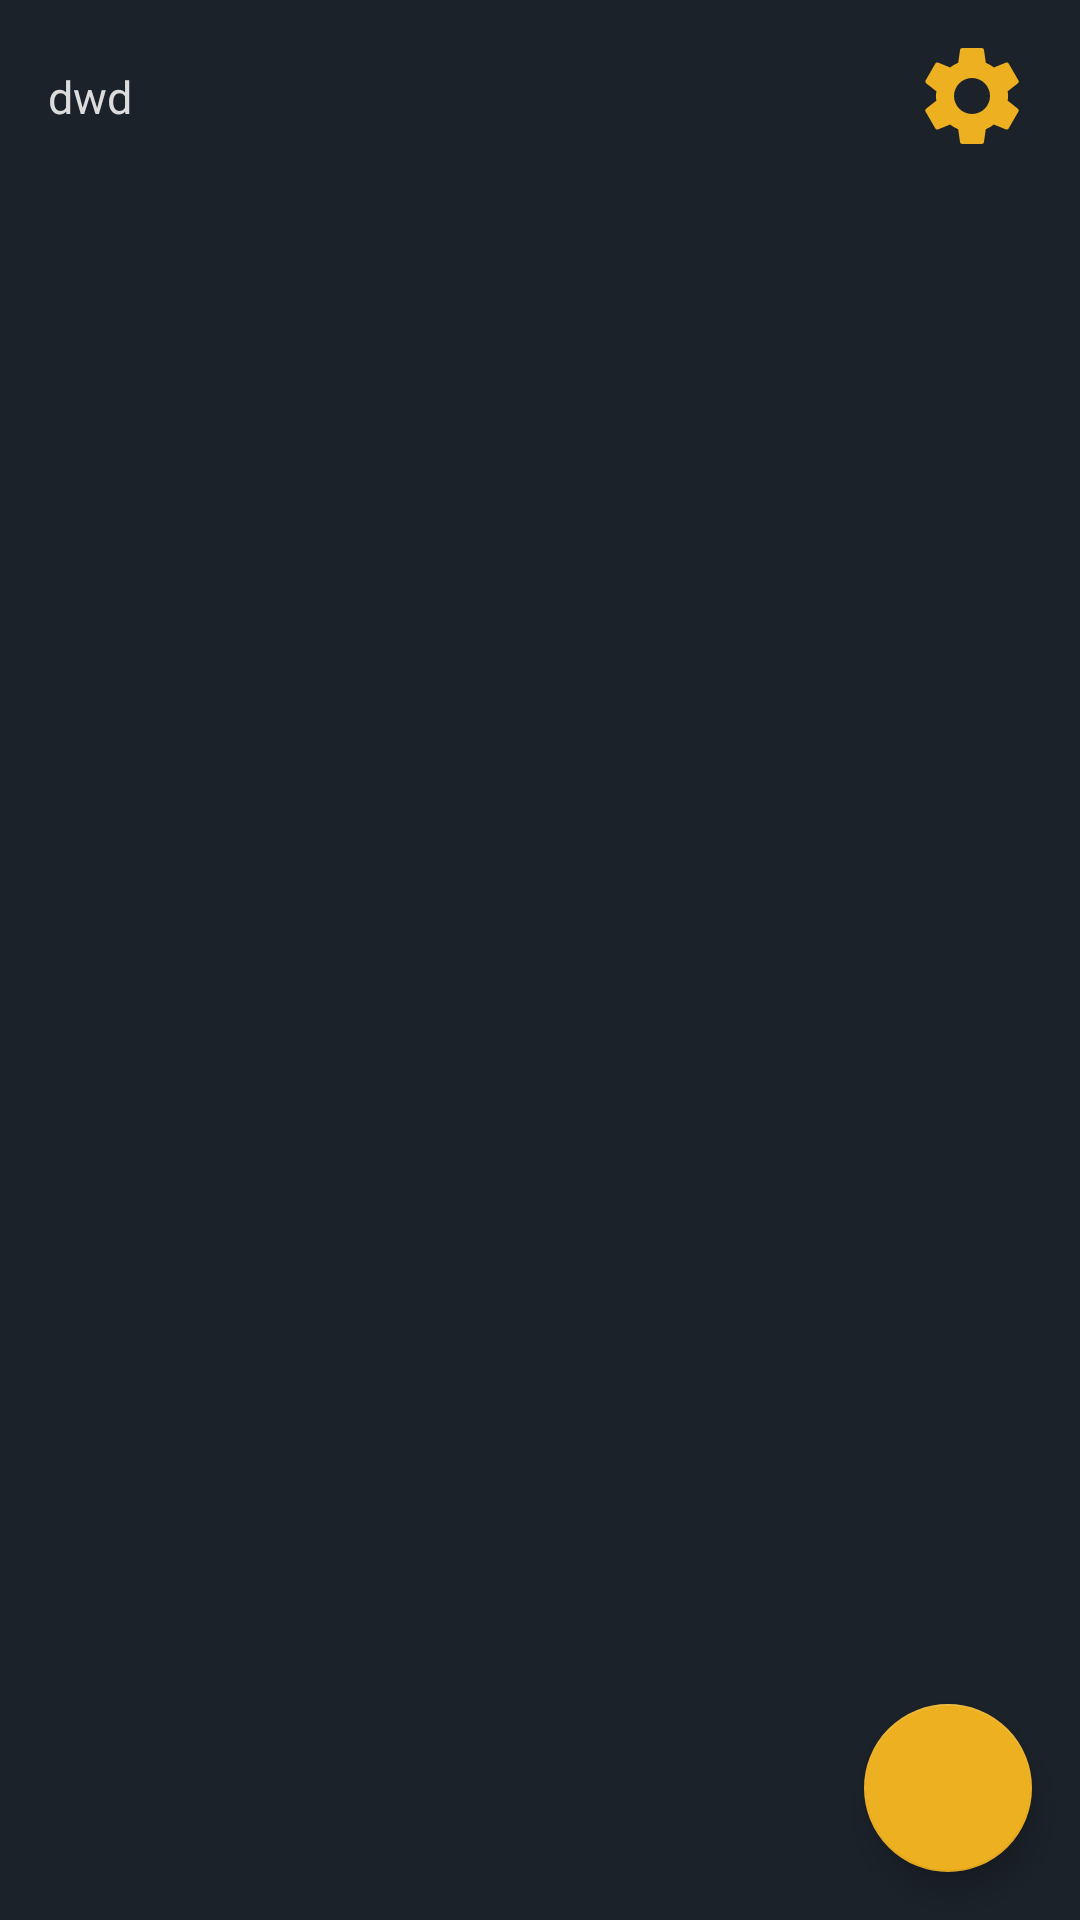

Icons on this 1080×1920 Android screen, each with the point to tap as point (x, y):
settings: point (972, 96)
